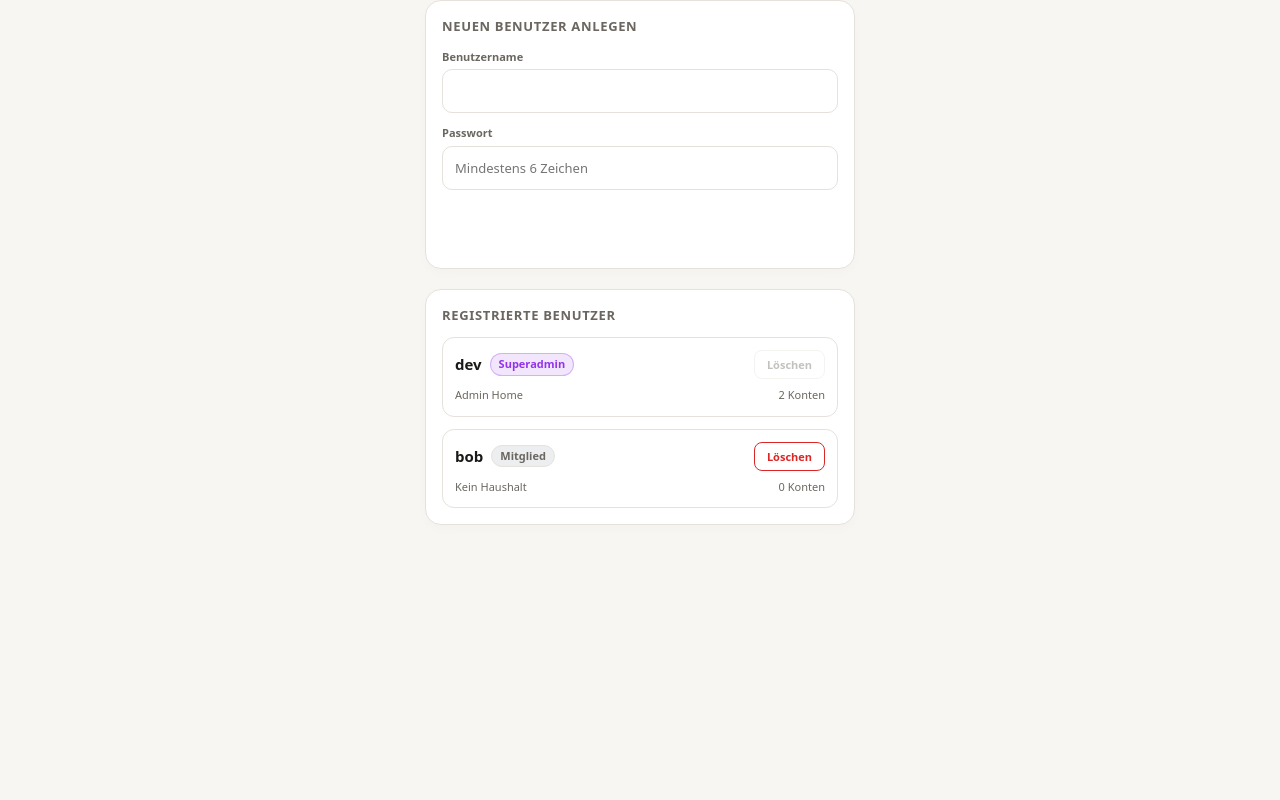
it: AdminView Integration › executes deleteUserAction and shows success toast on modal confirm
Click the button "Löschen" in the row of "Mitglied": (789, 456) x1=754 y1=442 x2=825 y2=470
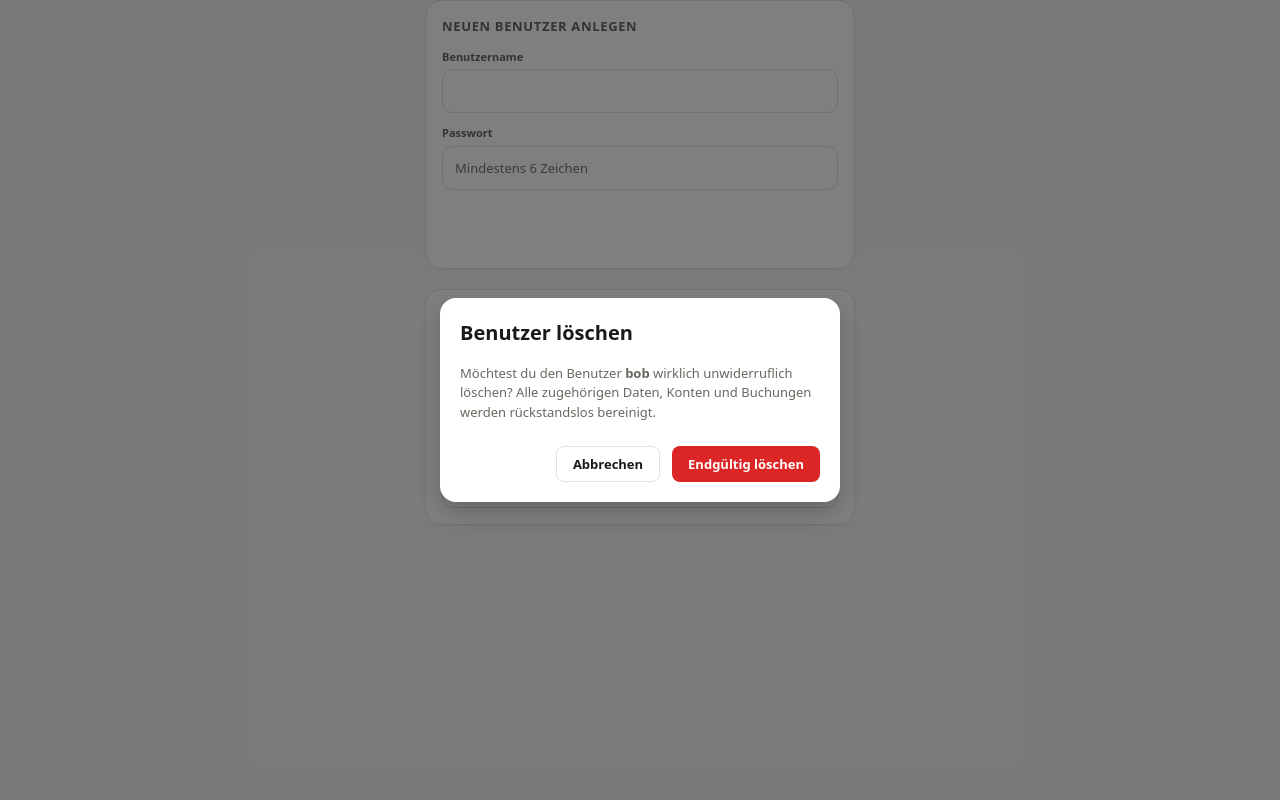
Click the button "Endgültig löschen": (746, 464) x1=672 y1=446 x2=820 y2=482
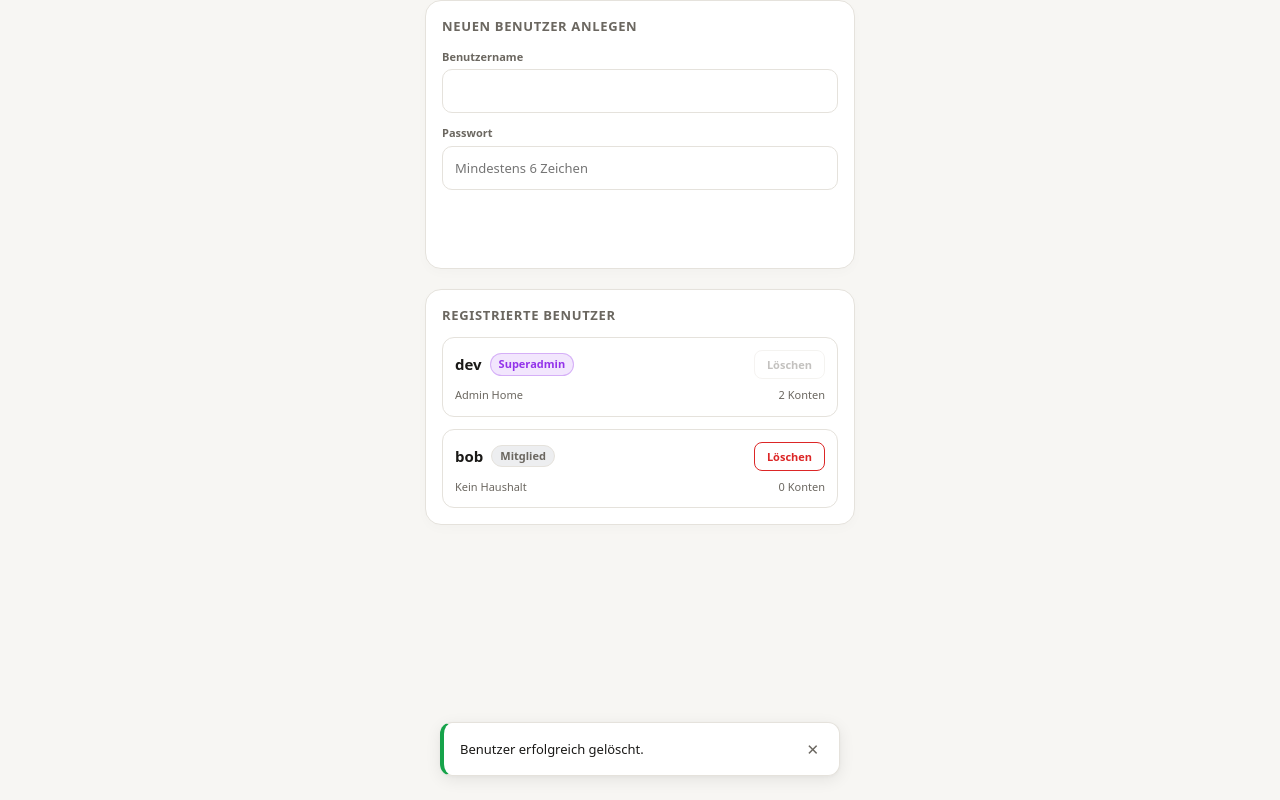
Now the text "Benutzer erfolgreich gelöscht." is shown, box x1=460 y1=740 x2=644 y2=758
Now the element with test id "delete-user-modal" is gone
